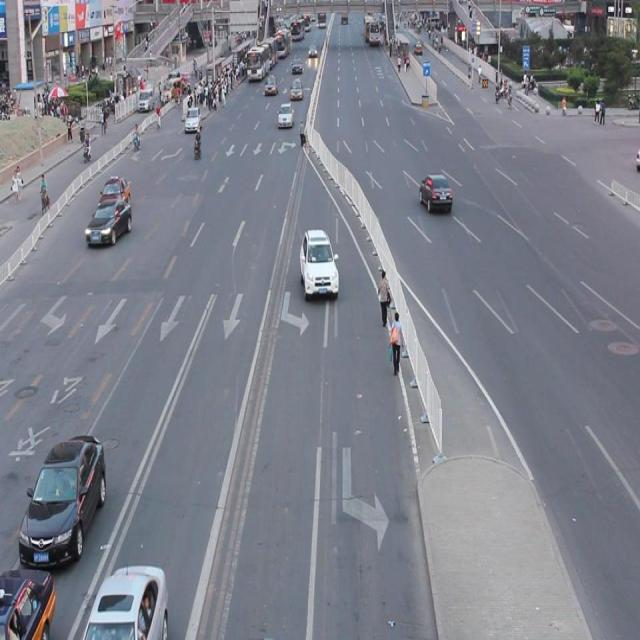car: (18, 431, 106, 568), (82, 559, 169, 640), (1, 564, 56, 640), (298, 227, 338, 299), (85, 197, 132, 246), (418, 172, 452, 213), (98, 175, 131, 214)
